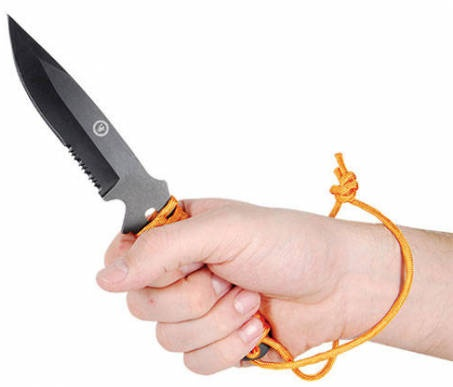knife: (5, 12, 278, 367)
